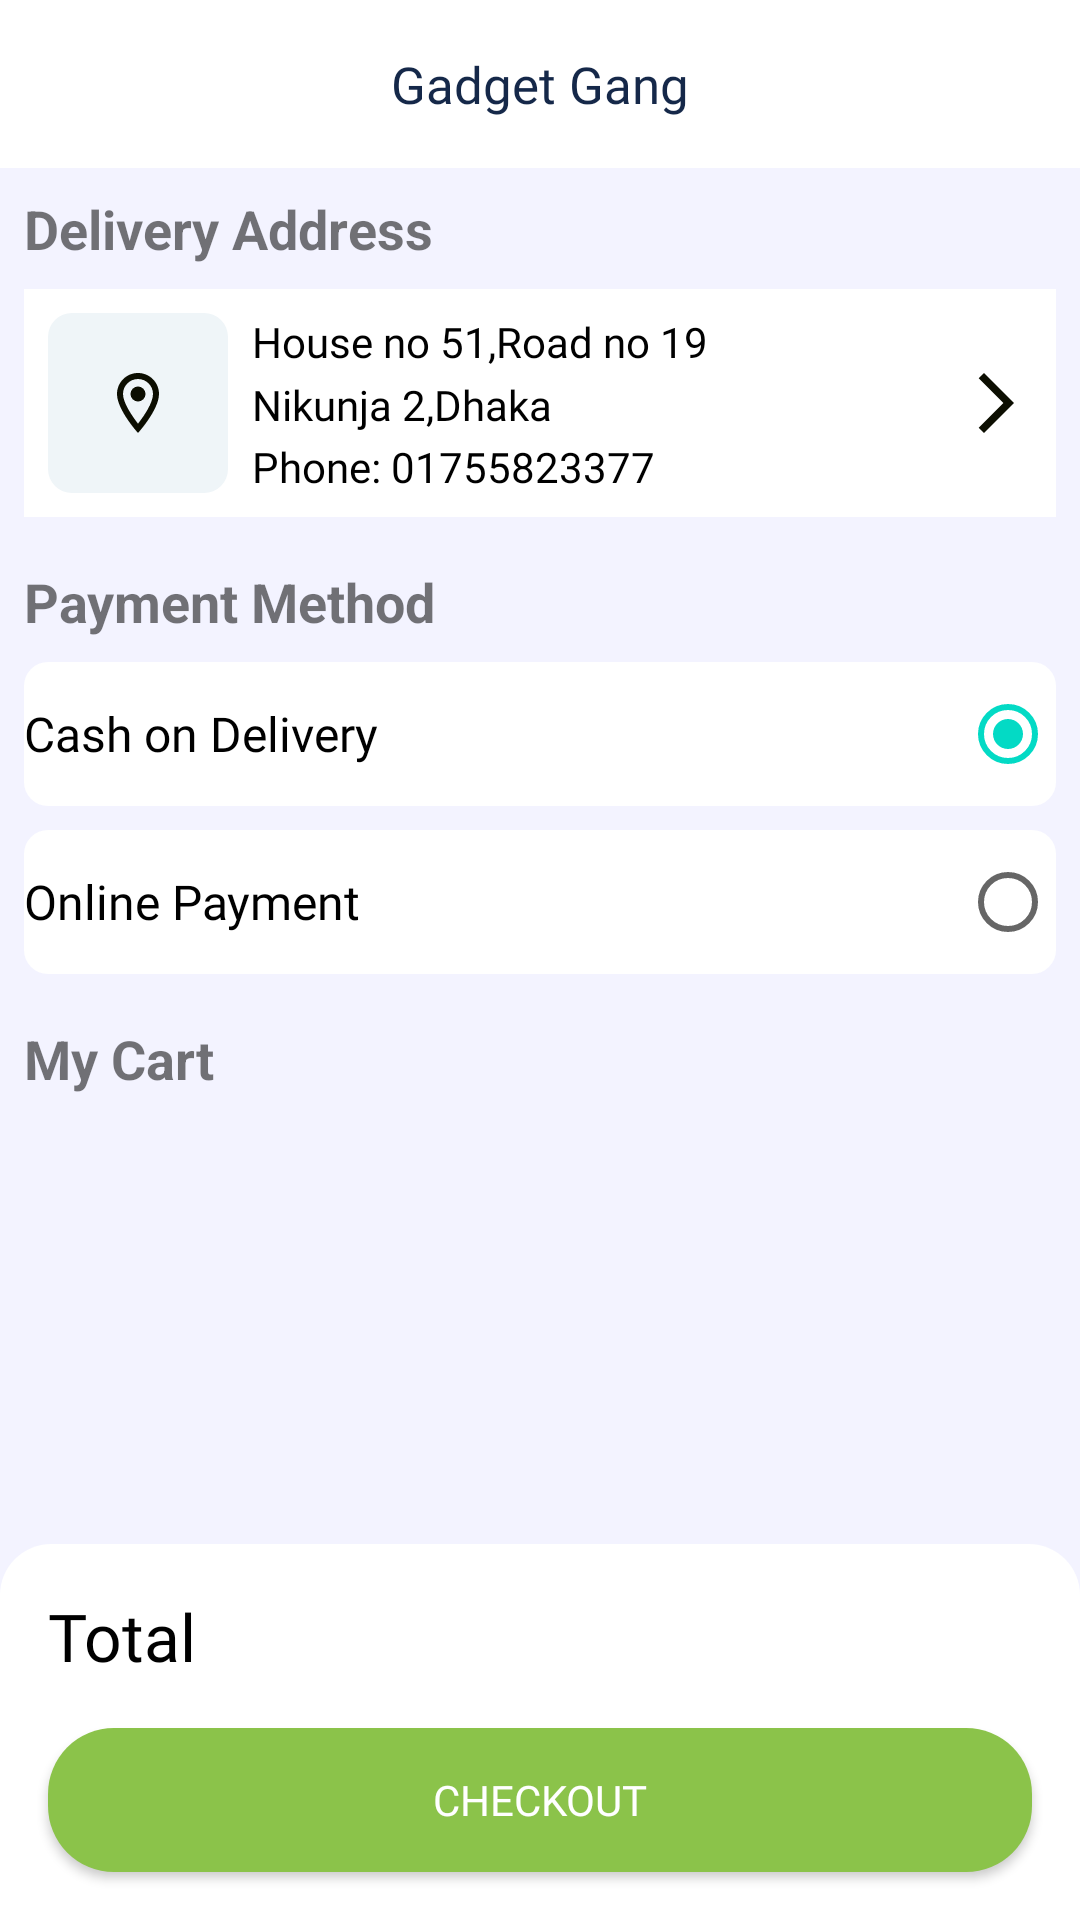

Point at icon controls on the screen. Image size 1080px x 1920px, points as [x,y].
arrow forward: [996,403]
location on: [138,403]
